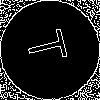T: (25, 25, 77, 66)
